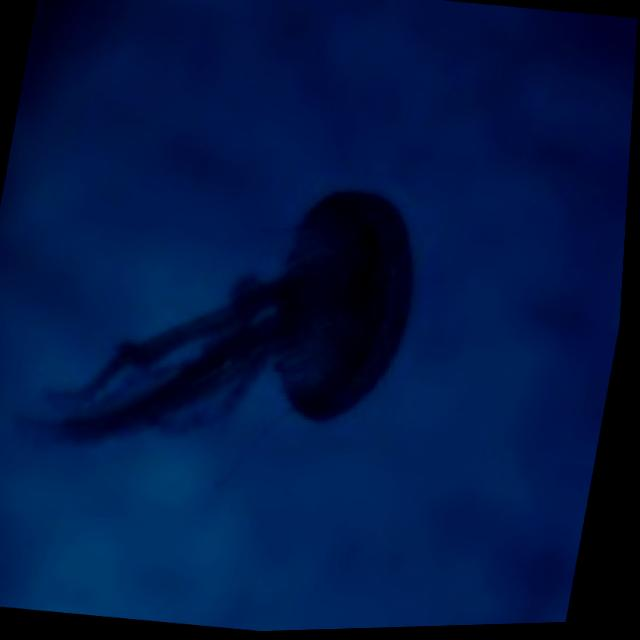Box-jellyfish: (14, 156, 439, 504)
